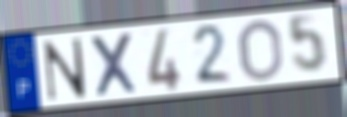2: (191, 21, 234, 90)
4: (145, 25, 184, 93)
5: (285, 11, 332, 79)
N: (42, 36, 88, 103)
O: (237, 17, 285, 84)
X: (87, 30, 141, 99)
